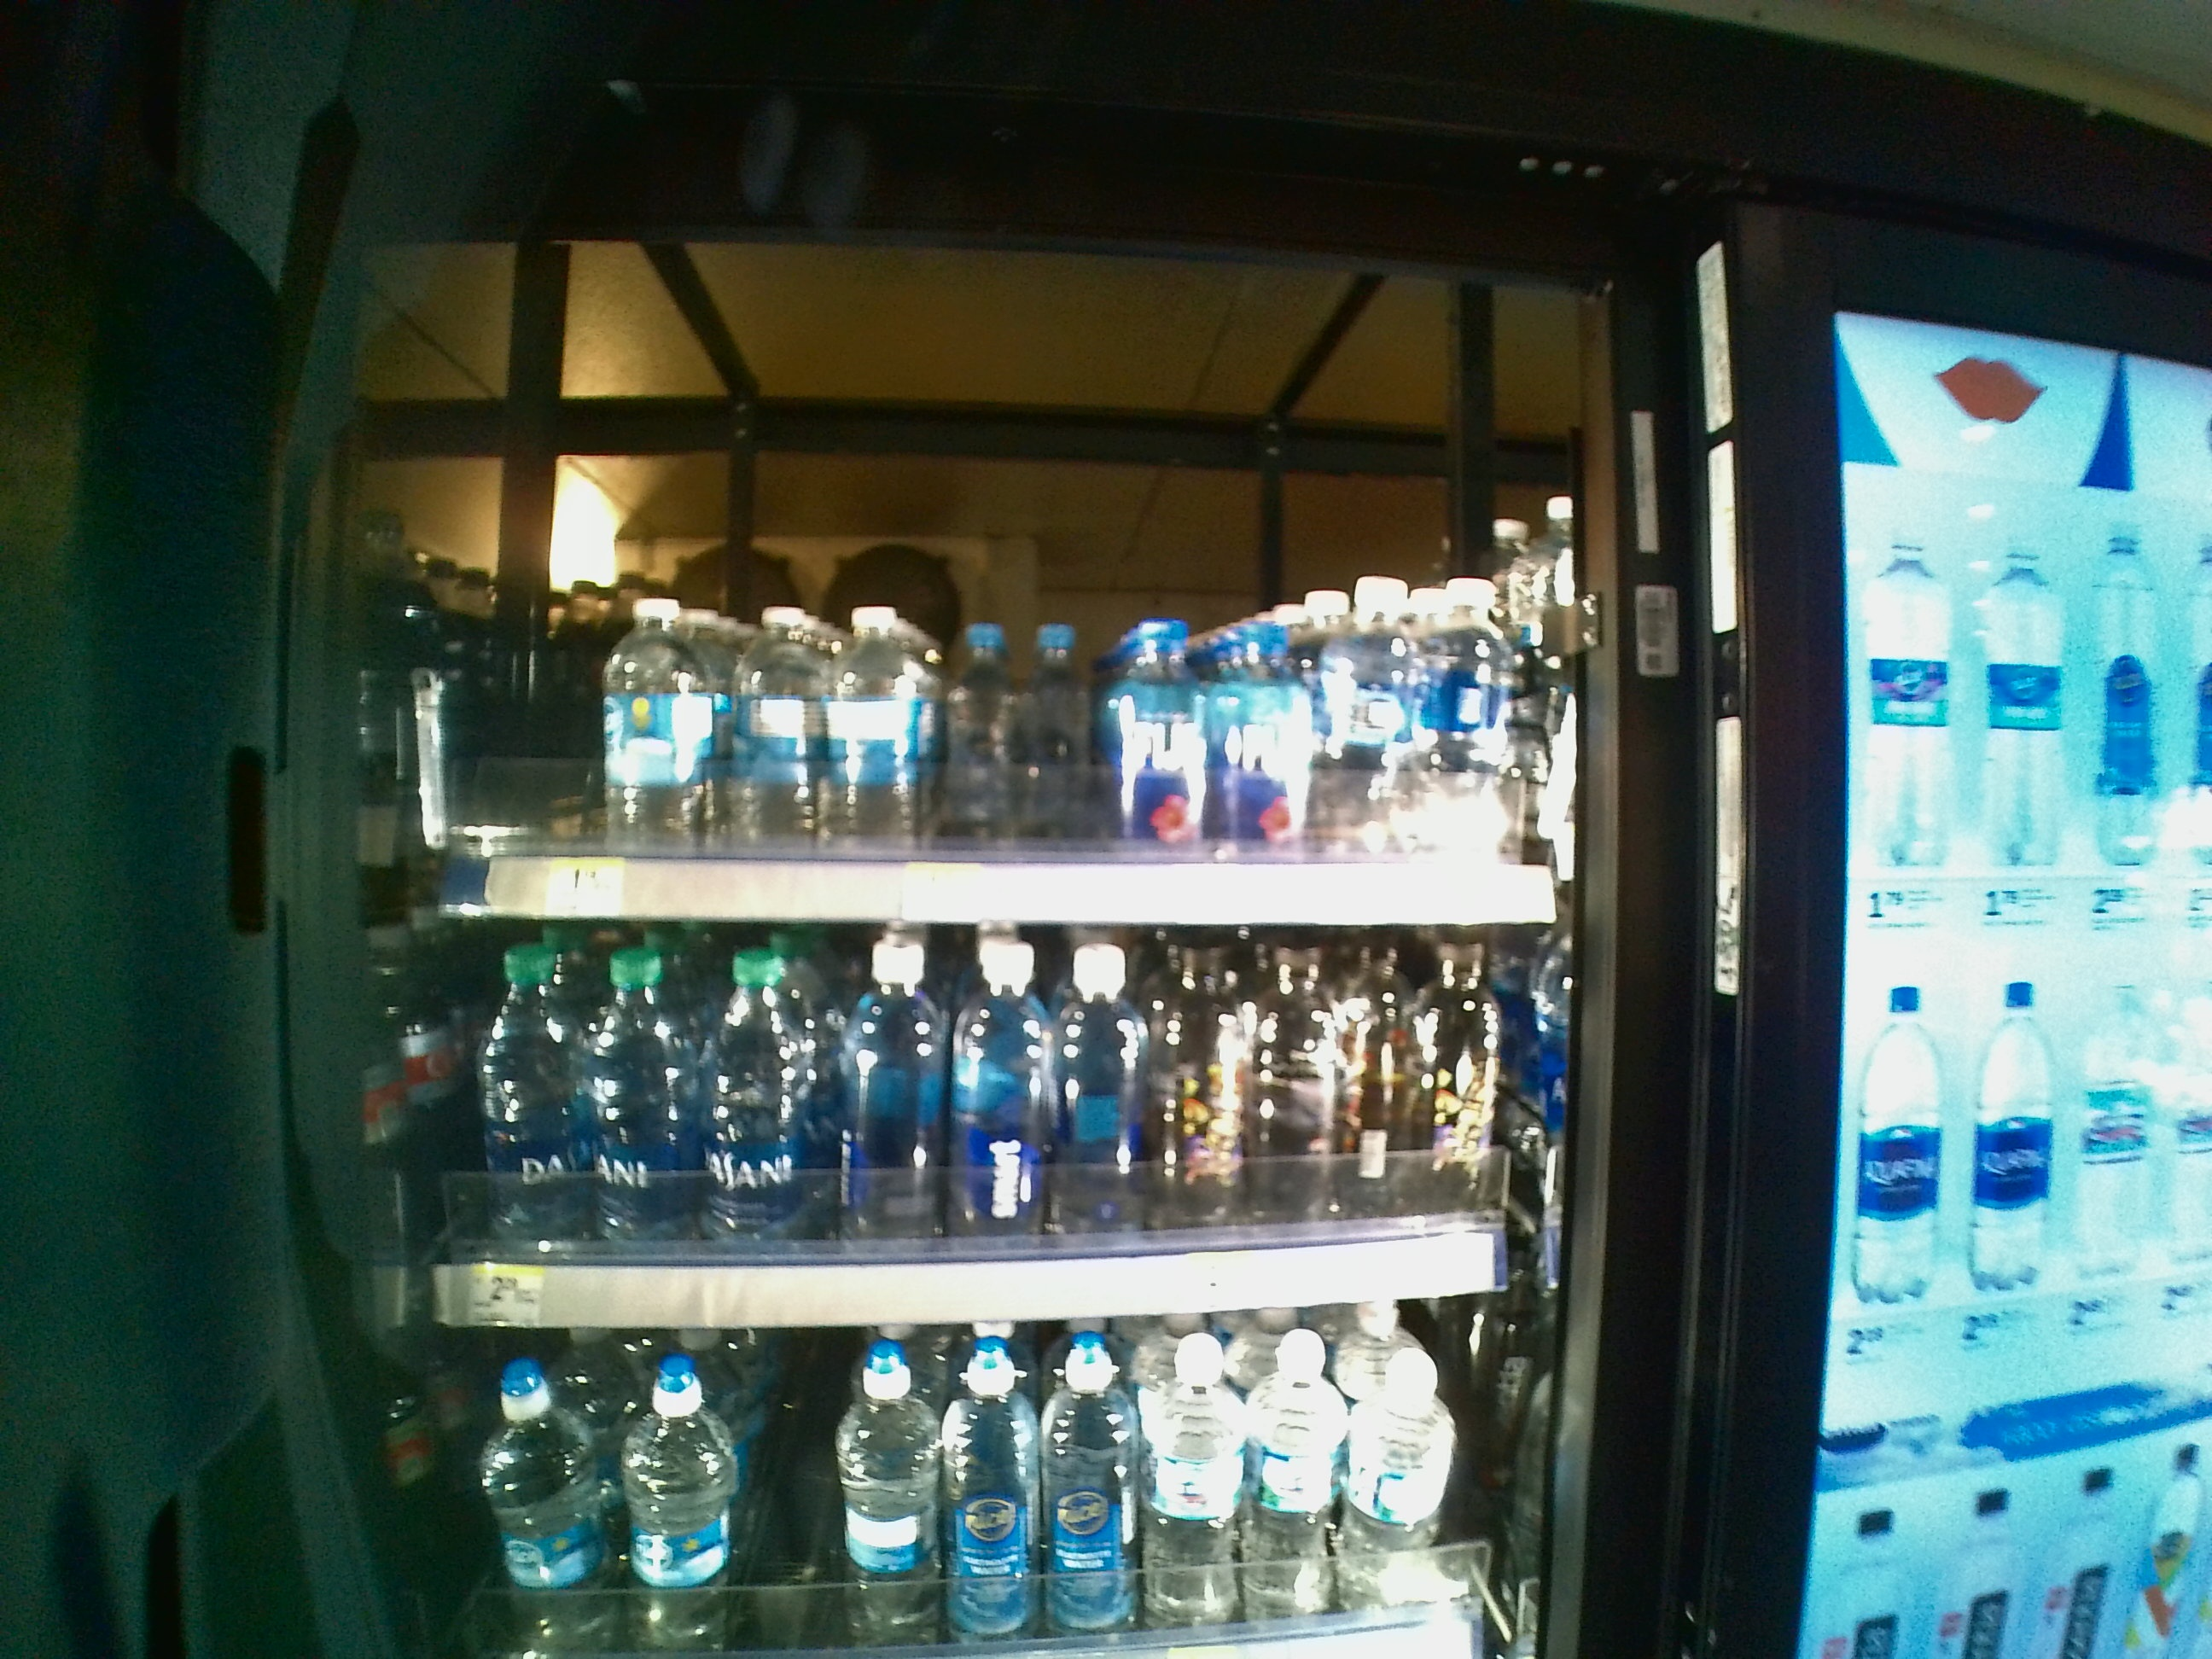shelf: (348, 254, 1629, 929), (348, 929, 1616, 1333)
